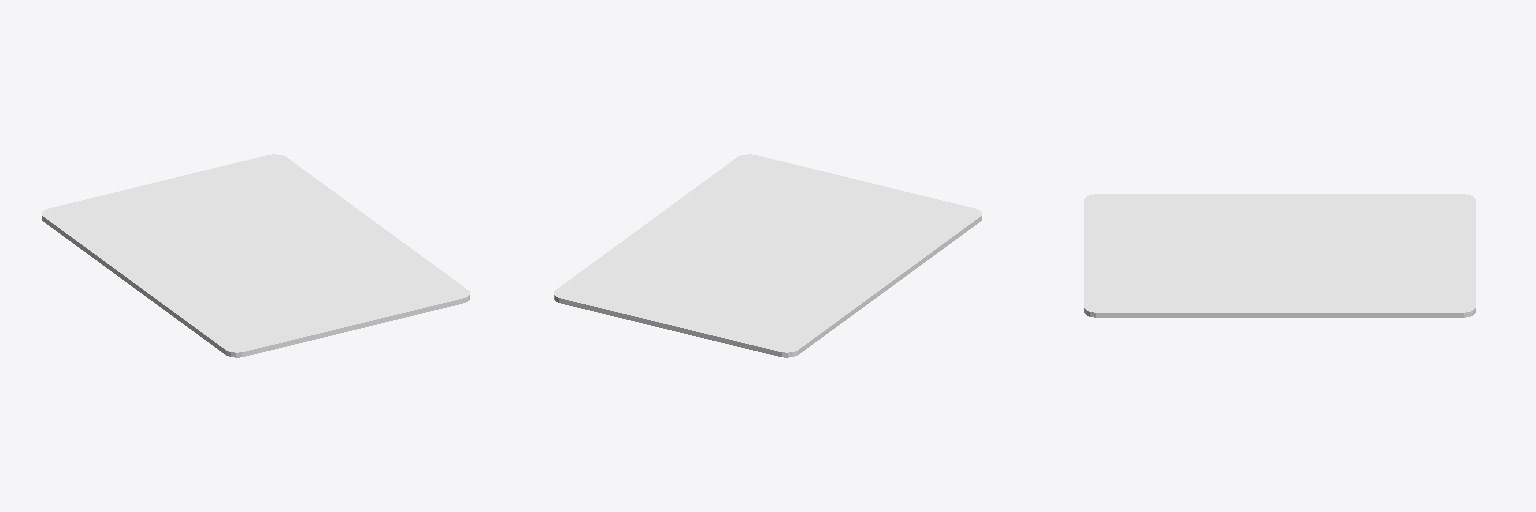
Rendered from card.obj.
The picture shows the model from 3 angles: view 1: azimuth 30°, elevation 25°; view 2: azimuth 150°, elevation 25°; view 3: azimuth 270°, elevation 25°; orthographic projection.
Visible parts, largest first — view 1: Plane004; view 2: Plane004; view 3: Plane004.
Part boxes in pixels (x1,y1,x2,y2): Plane004: (42, 154, 469, 357); Plane004: (554, 154, 981, 357); Plane004: (1084, 194, 1475, 317).
Size of the model in its own units: 40.52 by 0.8 by 56.47.